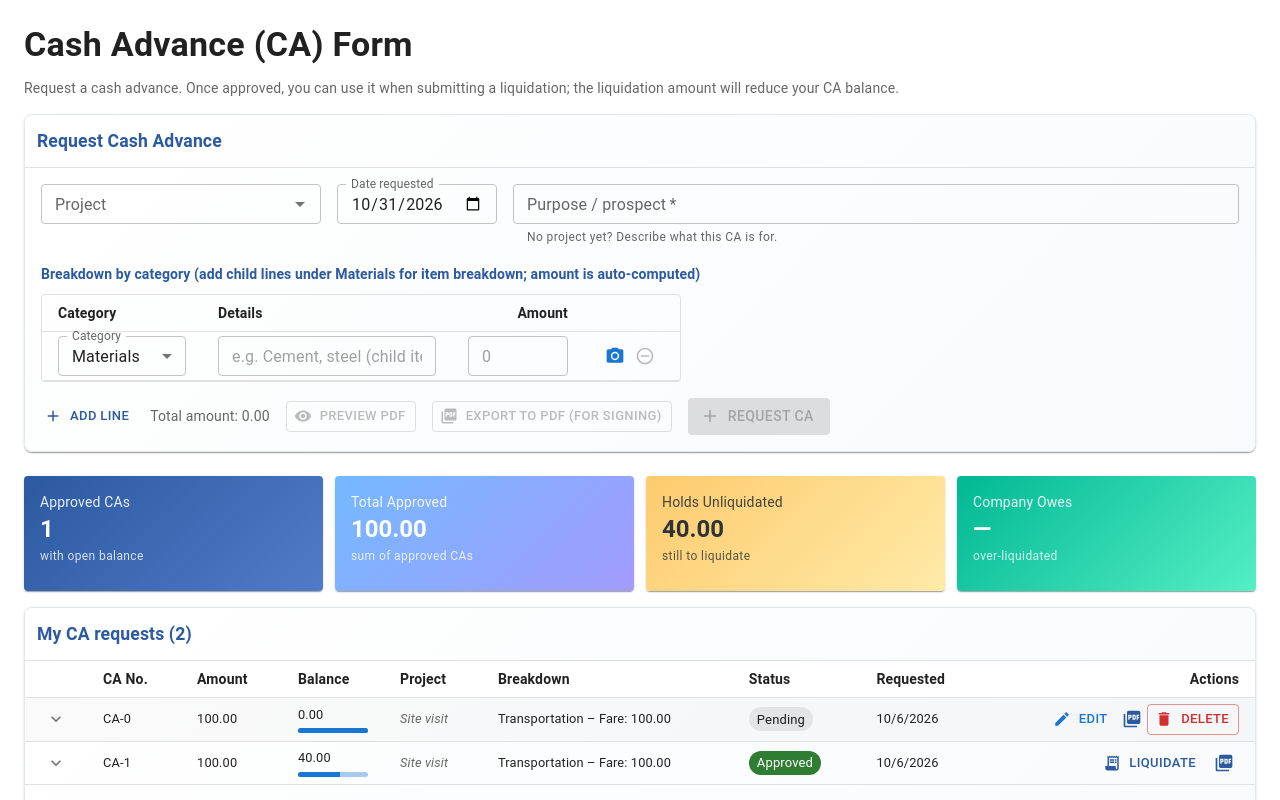
Test: owner edits pending CA using existing form and saves to details endpoint
The image size is (1280, 800).
Click the button "Edit".
click(1081, 719)  # box x1=1049 y1=704 x2=1113 y2=735
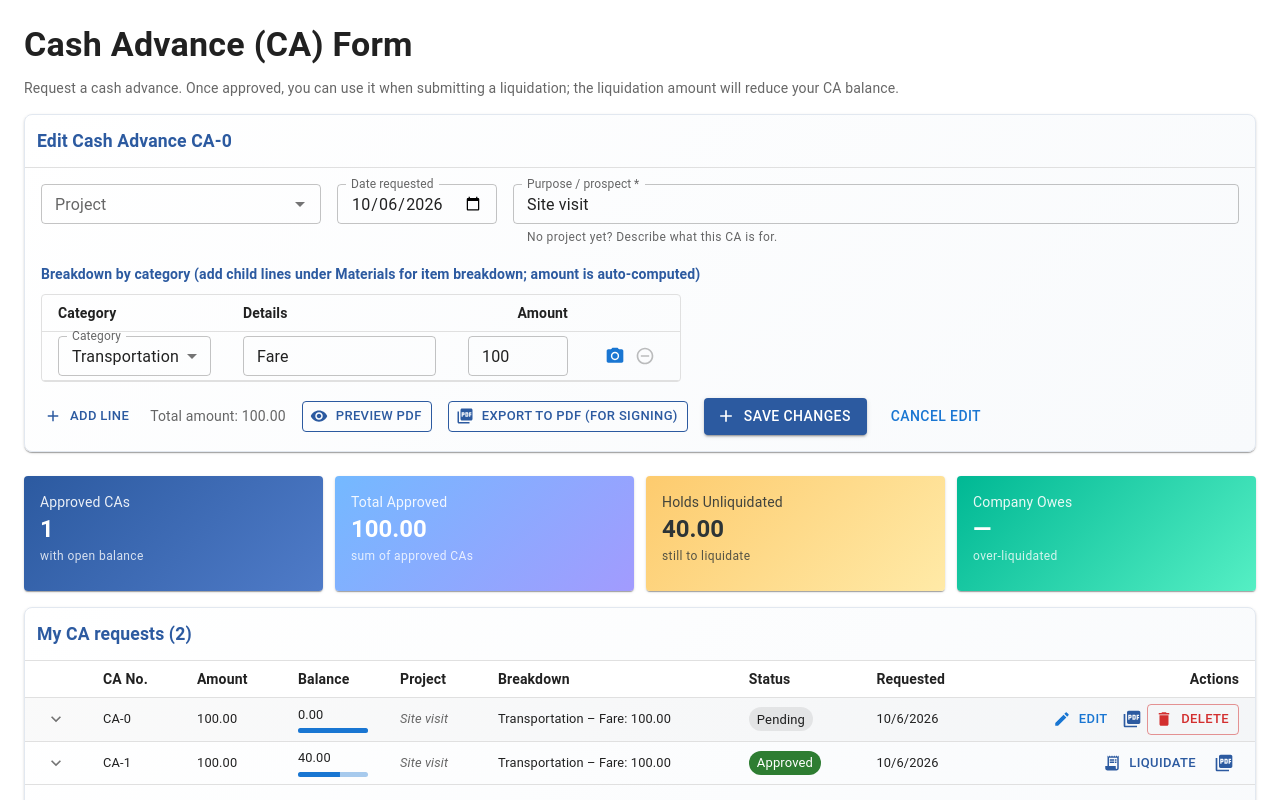
Expected: the field labelled "Purpose / prospect *" holds "Site visit"
Replace the text in the field labelled "Purpose / prospect *" with "Updated visit" at {"x": 876, "y": 204}, box x1=513 y1=184 x2=1239 y2=224
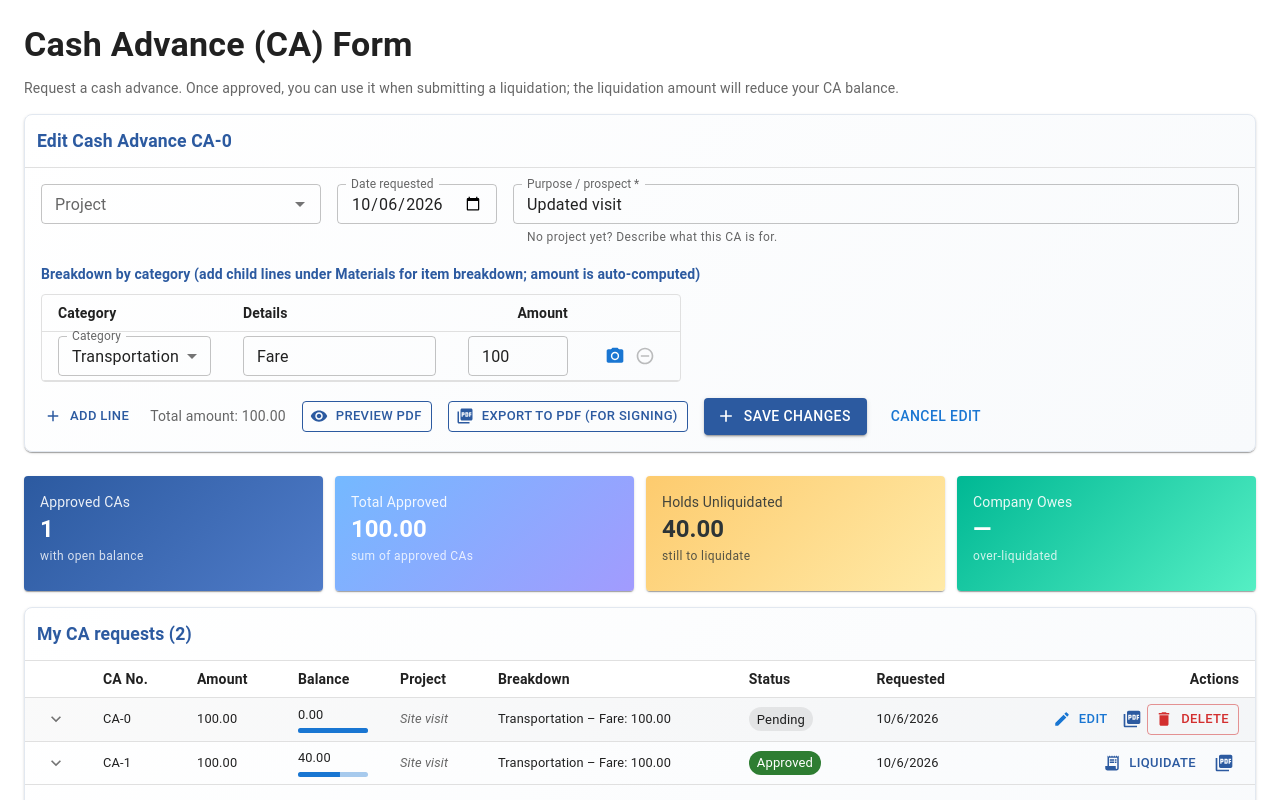
Click the button "Save changes".
click(785, 416)  # box x1=704 y1=398 x2=867 y2=434
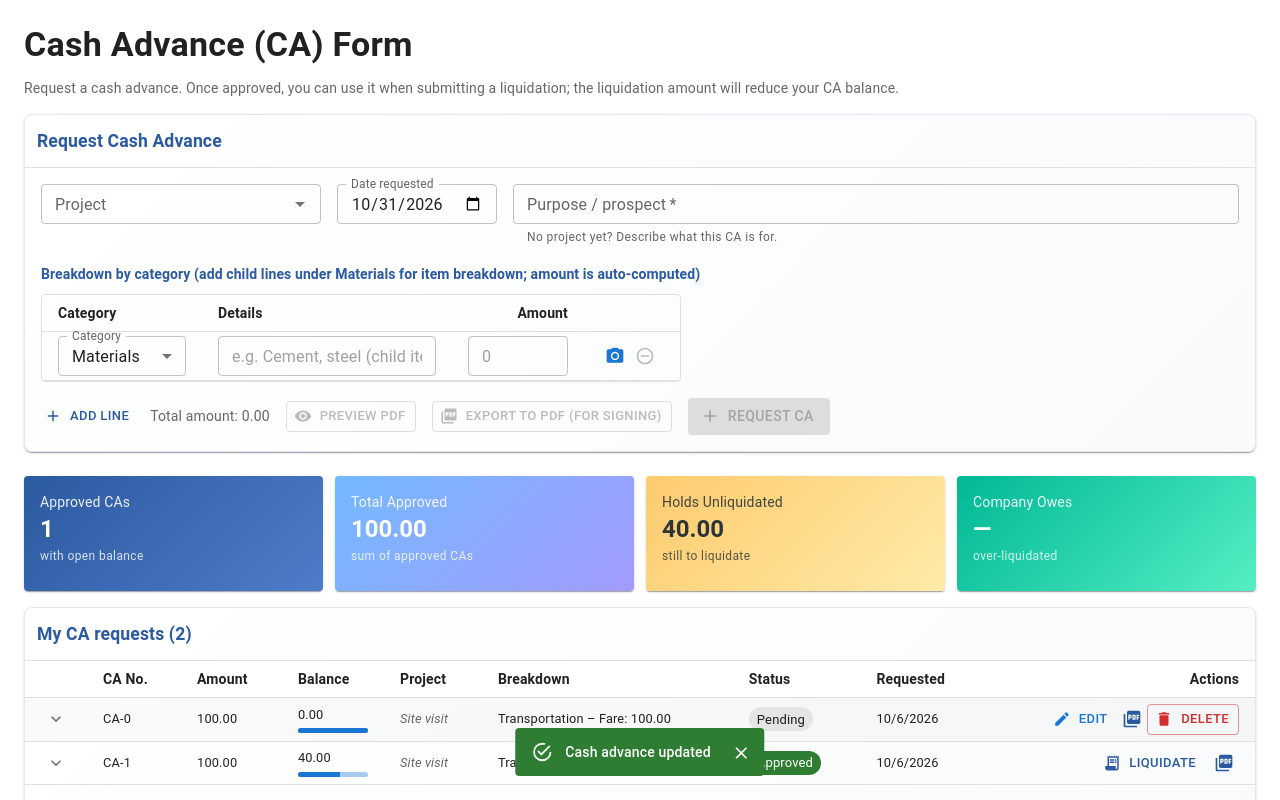
Expected: the text "Cash advance updated" is shown, x1=565 y1=744 x2=711 y2=760
Expected: the button "Request CA" is shown, x1=688 y1=398 x2=830 y2=434
